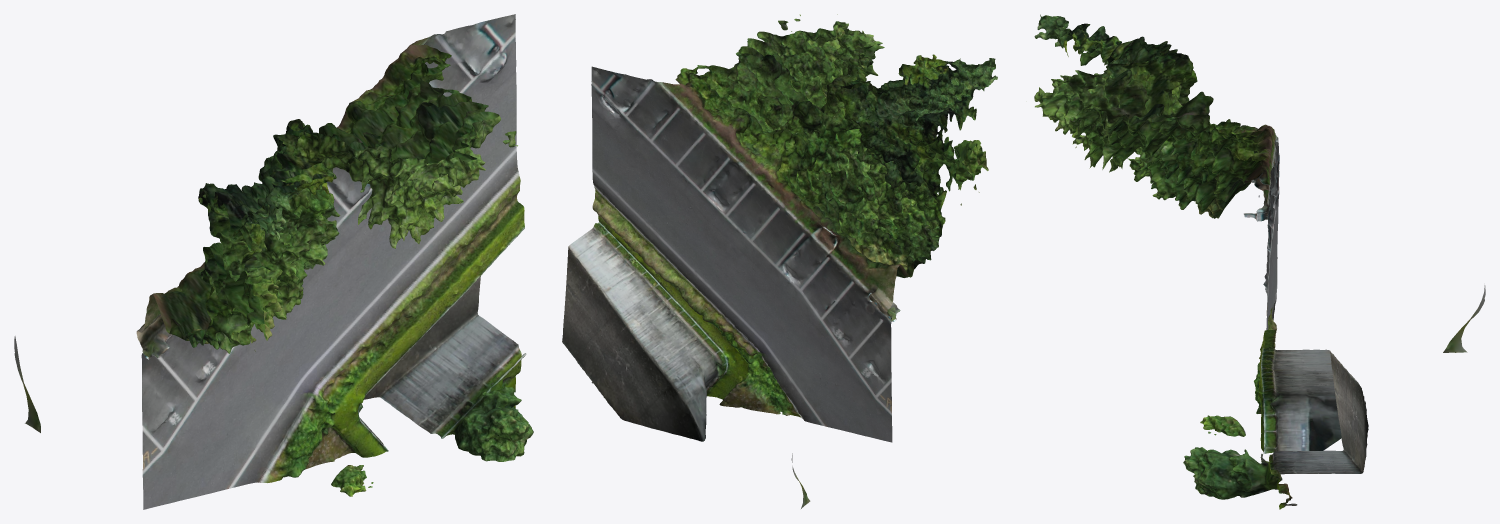
File: Tile_+005_+027.fbx
3 renders of one model, left to right at view 1: azimuth 30°, elevation 25°; view 2: azimuth 150°, elevation 25°; view 3: azimuth 270°, elevation 25°, orthographic. The views are drawn at different scales.
Visible parts, largest first — view 1: DefaultName; view 2: DefaultName; view 3: DefaultName.
Part boxes in pixels (x1,y1,x2,y2): DefaultName: [14, 14, 533, 509]; DefaultName: [562, 14, 997, 508]; DefaultName: [1034, 14, 1485, 509].
Bounding box in the file's own units: 22.54 × 22.54 × 27.74.
